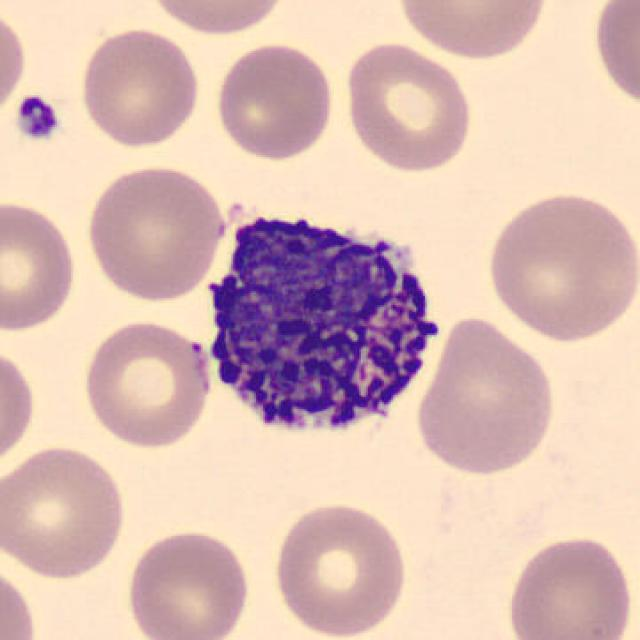Basophil: (189, 194, 455, 458)
Platelets: (12, 94, 62, 144)
RBC: (411, 312, 560, 480), (480, 187, 638, 344), (81, 160, 228, 304), (268, 497, 412, 640), (339, 37, 476, 175), (78, 316, 215, 452), (0, 441, 130, 582), (74, 25, 202, 150), (212, 39, 338, 162), (123, 525, 254, 640), (501, 530, 636, 640), (0, 196, 82, 335), (391, 0, 553, 62), (588, 0, 638, 116), (142, 0, 295, 37), (0, 340, 39, 474), (0, 5, 30, 124), (0, 555, 41, 640)
